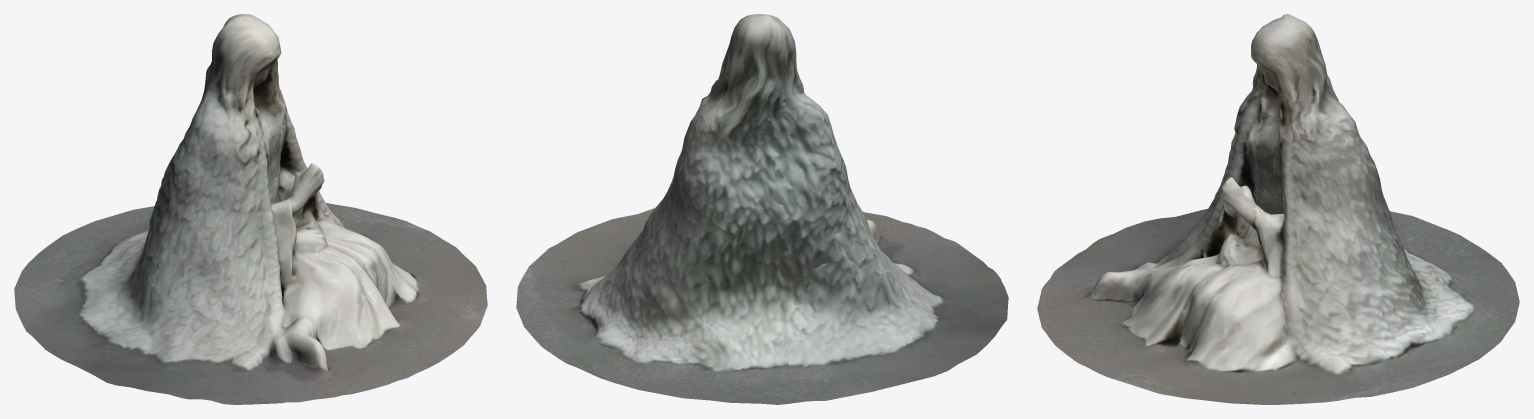
File: Ranni Decimated.glb
3 renders of one model, left to right at view 1: azimuth 30°, elevation 25°; view 2: azimuth 150°, elevation 25°; view 3: azimuth 270°, elevation 25°, orthographic. The views are drawn at different scales.
Visible parts, largest first — view 1: Mesh_0; view 2: Mesh_0; view 3: Mesh_0.
Part boxes in pixels (box(x1,y1,x2,y2)): Mesh_0: box(14, 14, 487, 404); Mesh_0: box(516, 14, 1008, 404); Mesh_0: box(1037, 14, 1519, 404).
Bounding box in the file's own units: 7.49 × 4.99 × 7.49.
Materials: 1 (1 with a texture image).
